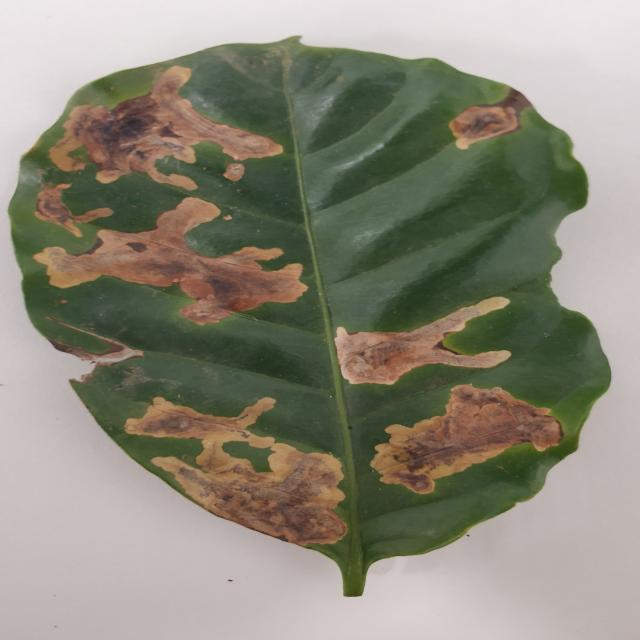Plaga-Minador: (7, 37, 612, 601)
